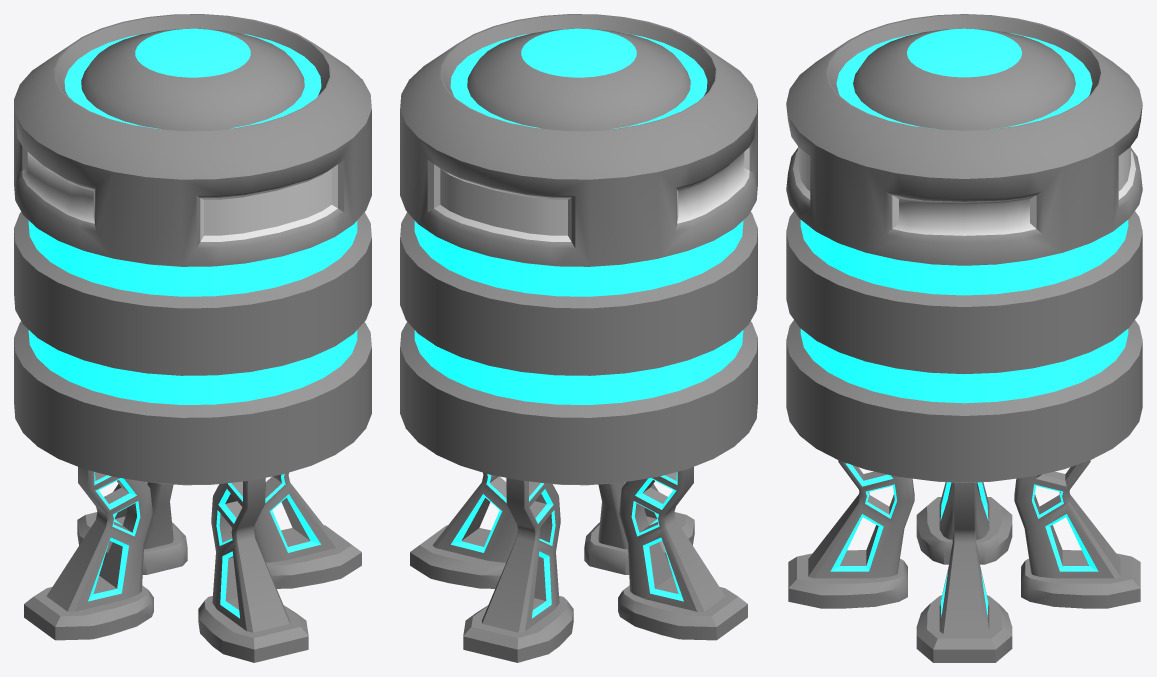
3 views of the same model, side by side, from view 1: azimuth 30°, elevation 25°; view 2: azimuth 150°, elevation 25°; view 3: azimuth 270°, elevation 25° (orthographic).
Visible parts, largest first — view 1: Body, Feet; view 2: Body, Feet; view 3: Body, Feet.
Part boxes in pixels (x1,y1,x2,y2): Body: (14, 14, 371, 485); Feet: (24, 467, 361, 662); Body: (400, 14, 757, 485); Feet: (410, 467, 747, 662); Body: (786, 14, 1142, 482); Feet: (788, 460, 1140, 662).
Bounding box in the file's own units: 400 × 663 × 400.
